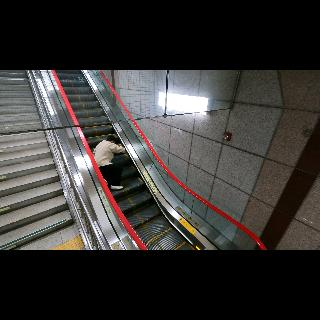anomaly: (90, 128, 130, 195)
